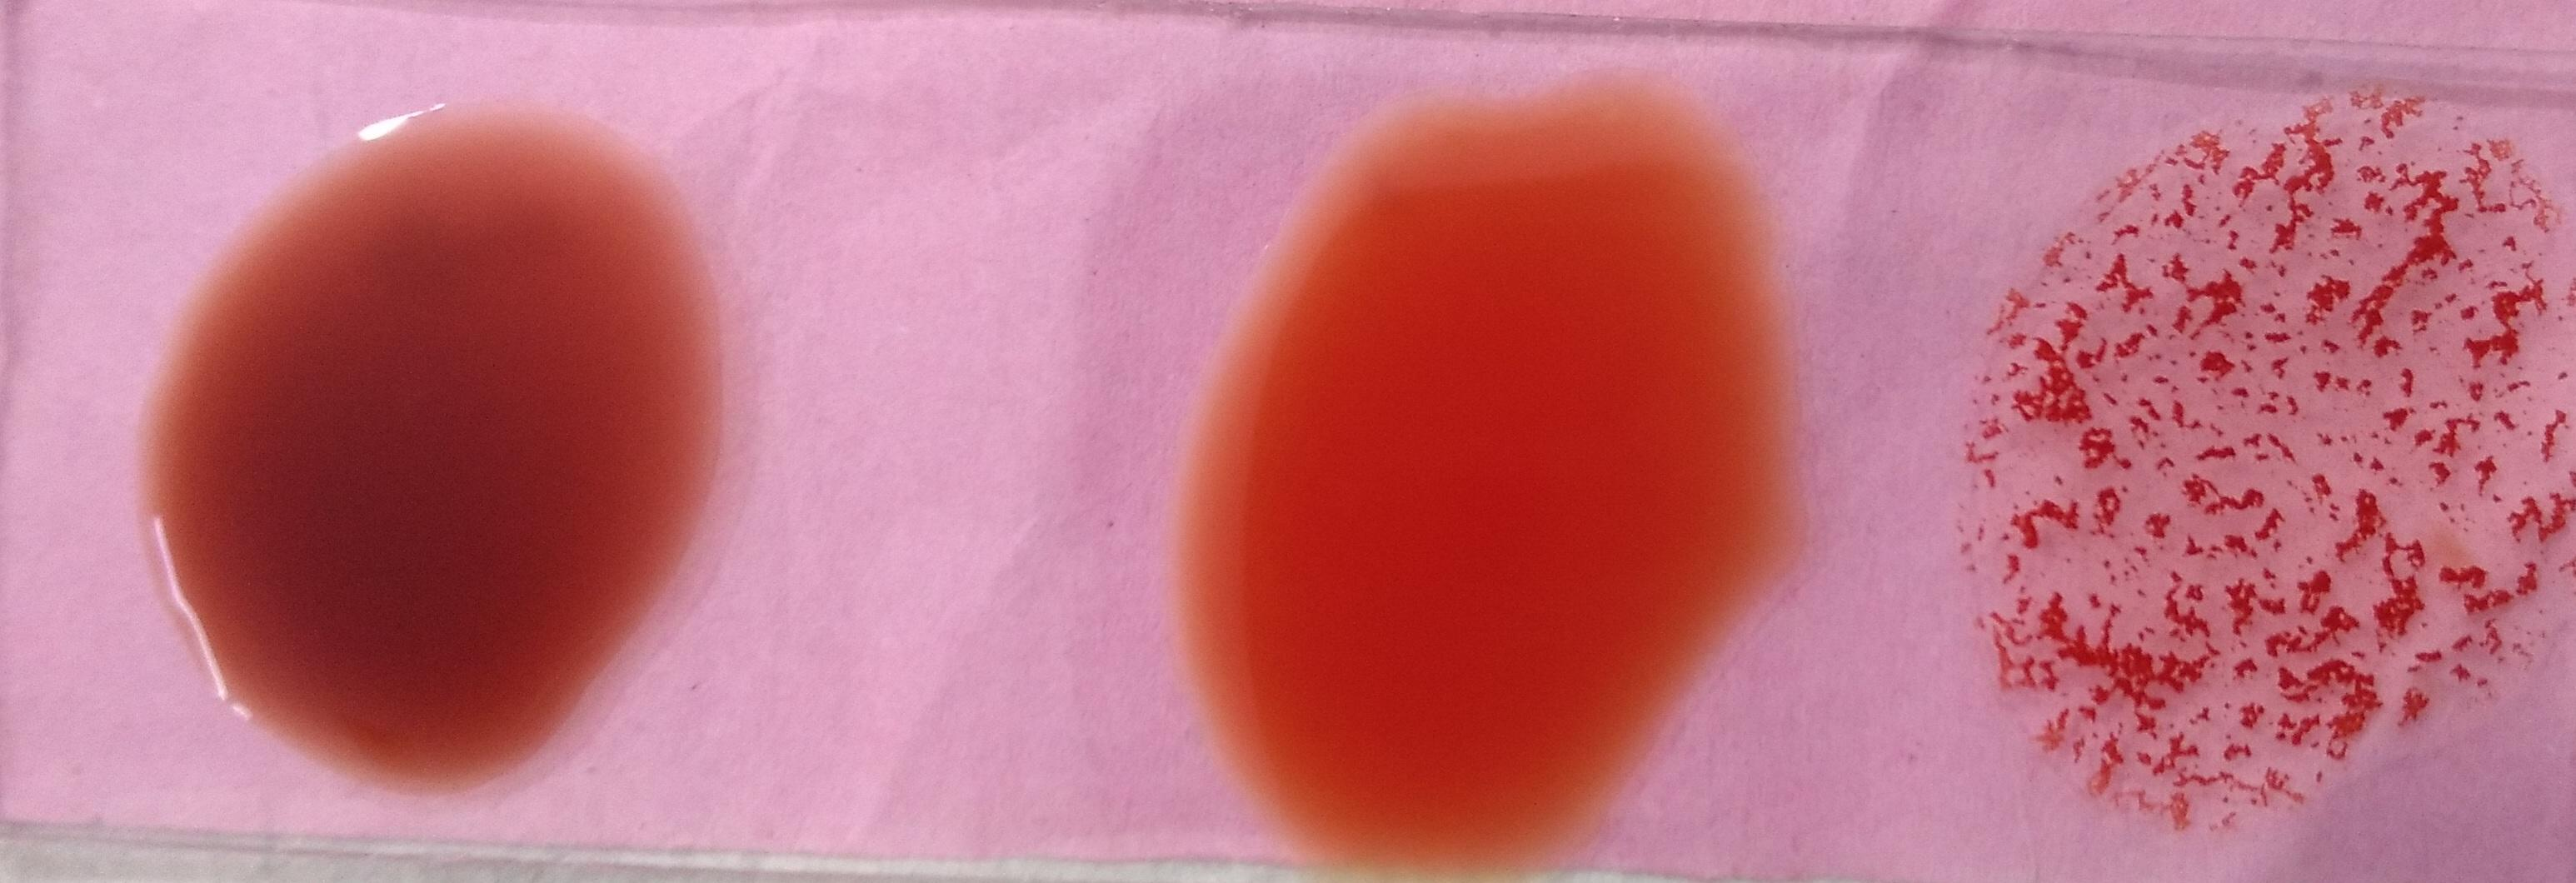D: (1945, 79, 2576, 829)
